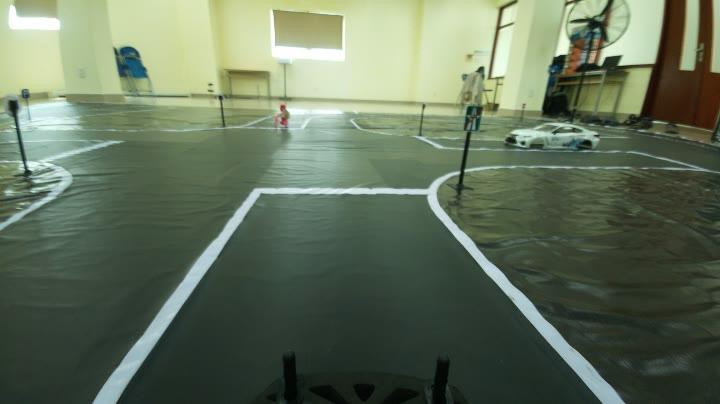highway_exit: (459, 102, 484, 134)
